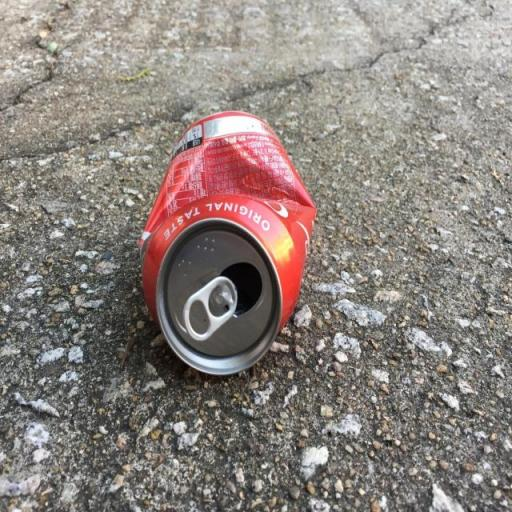metal: (110, 75, 332, 390)
